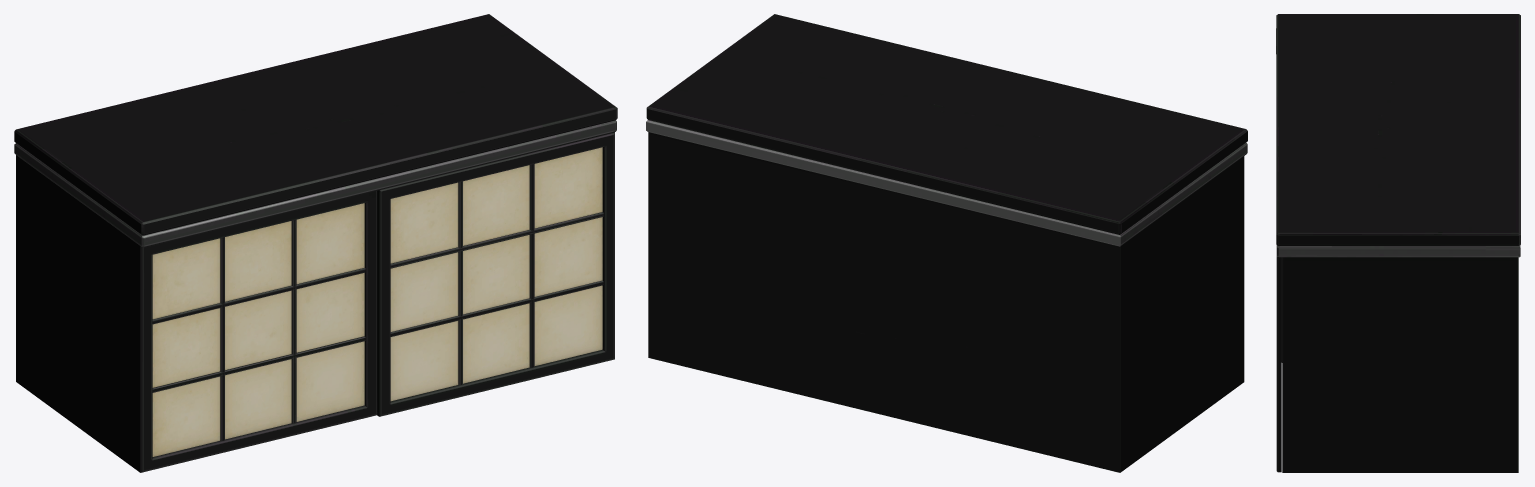
The model's file is Wardrobe2.a.fbx.
The picture shows the model from 3 angles, left to right: view 1: azimuth 30°, elevation 25°; view 2: azimuth 150°, elevation 25°; view 3: azimuth 270°, elevation 25°; orthographic projection. The views are drawn at different scales.
Visible parts, largest first — view 1: Group 0; view 2: Group 0; view 3: Group 0.
Boxes of the visible parts, left/top/right/bottom form: Group 0: left=14, top=14, right=617, bottom=472; Group 0: left=646, top=14, right=1247, bottom=472; Group 0: left=1276, top=14, right=1520, bottom=472.
Size of the model in its own units: 187 by 99.45 by 87.47.
1 material, 1 textured.
